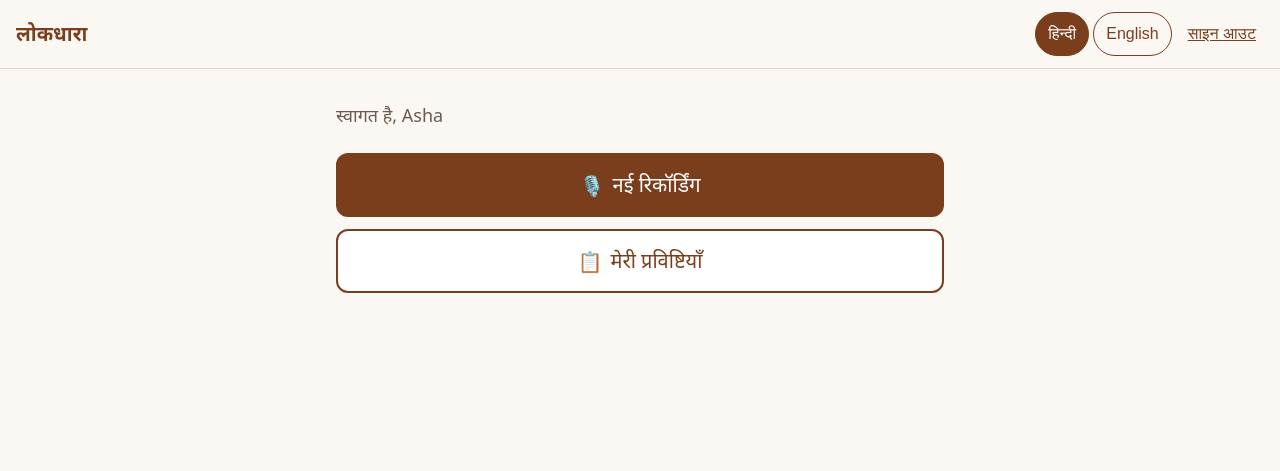
Test: app shell and sign-in › sends the CSRF token with changes and signs out
Expected: the text "स्वागत है, Asha" is shown, [336,103,443,127]
Click the button "साइन आउट": (1222, 34) [1180,12,1264,56]
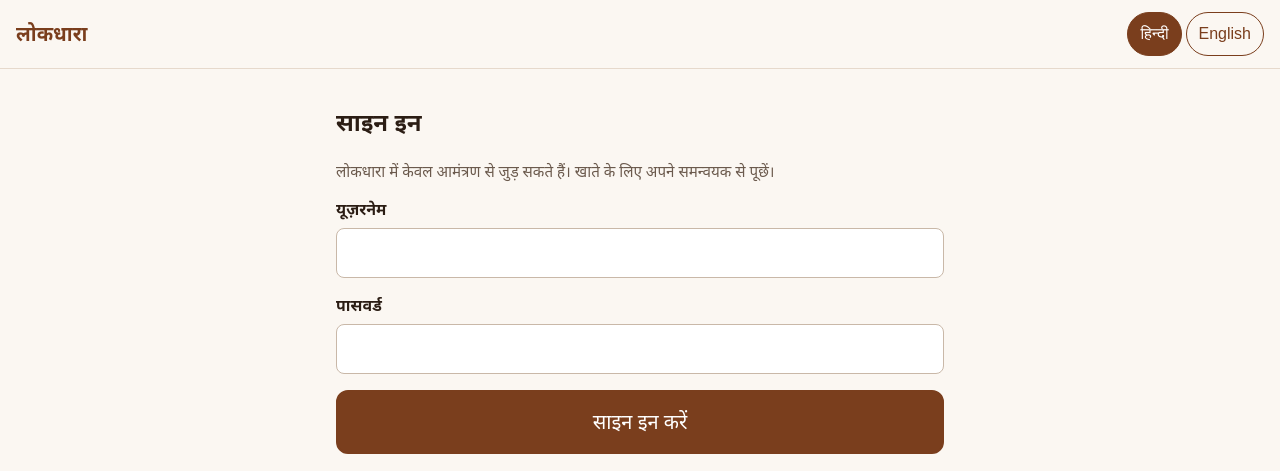
Expected: the heading "साइन इन" is shown, [336,105,422,138]
